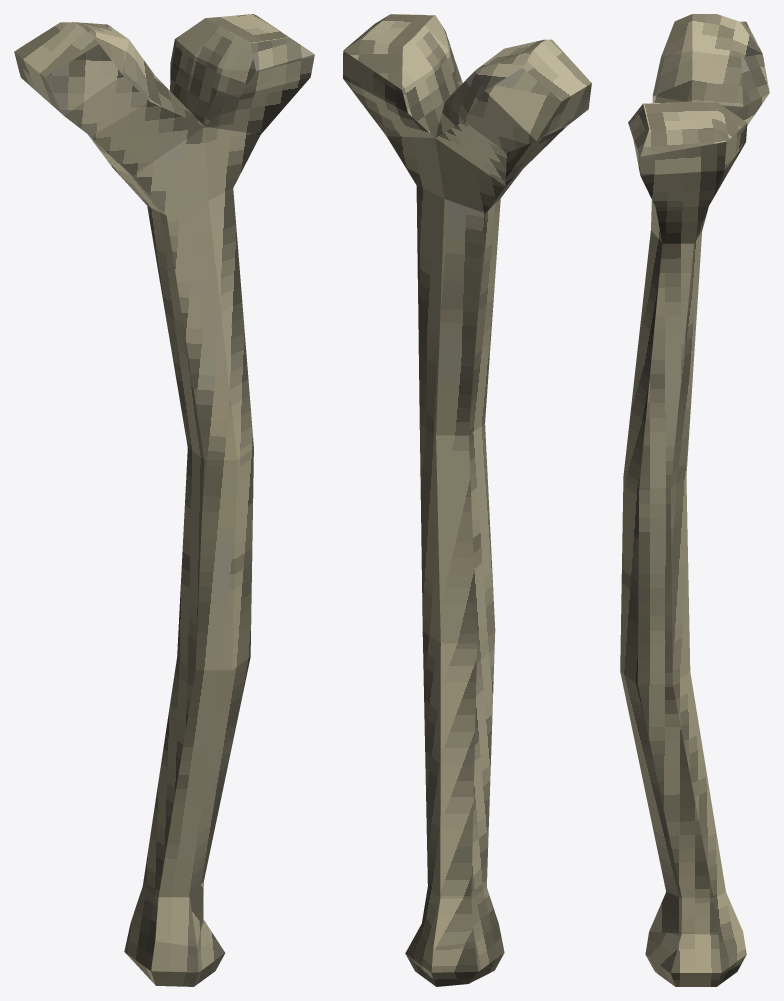
Rendered from hueso.glb.
3 views of the same model, side by side, from view 1: azimuth 30°, elevation 25°; view 2: azimuth 150°, elevation 25°; view 3: azimuth 270°, elevation 25° (orthographic). The views are drawn at different scales.
Parts seen in each view (by area): view 1: Hueso; view 2: Hueso; view 3: Hueso.
Boxes of the visible parts, <box> form: Hueso: <box>14,14,314,986</box>; Hueso: <box>343,14,591,986</box>; Hueso: <box>620,14,769,986</box>.
Size of the model in its own units: 0.1123 by 0.4217 by 0.0622.
Materials: 1 (1 with a texture image).
